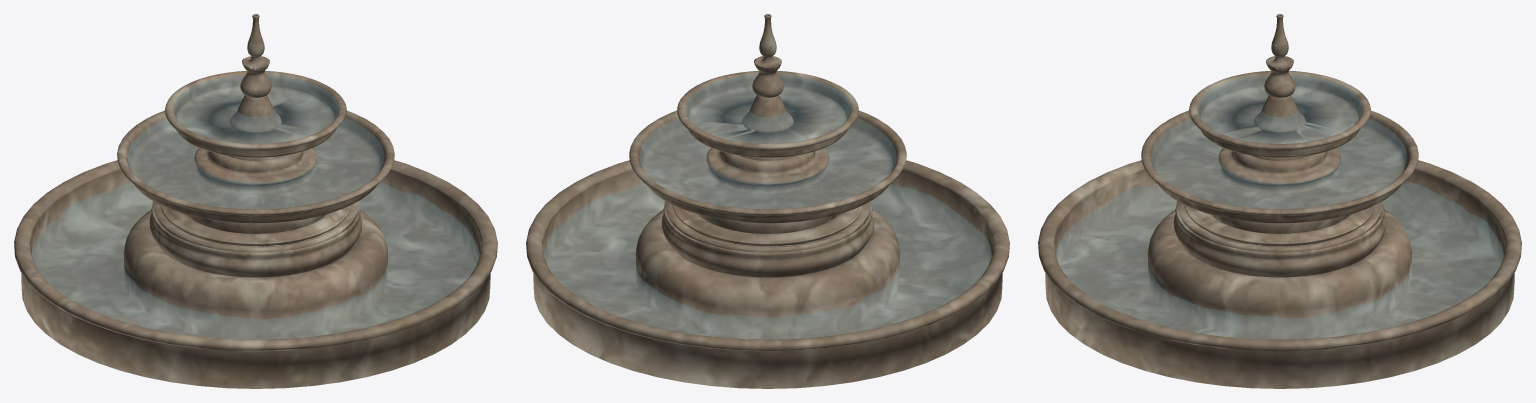
File: PRP_CityFountain.glb
3 views of the same model, side by side, from view 1: azimuth 30°, elevation 25°; view 2: azimuth 150°, elevation 25°; view 3: azimuth 270°, elevation 25° (orthographic).
Visible parts, largest first — view 1: h_1Shape, f_1Shape, f_3Shape, f_2Shape; view 2: h_1Shape, f_1Shape, f_3Shape, f_2Shape; view 3: h_1Shape, f_1Shape, f_3Shape, f_2Shape.
Part boxes in pixels (bbox=[...]): h_1Shape: bbox=[14, 14, 497, 388]; f_1Shape: bbox=[32, 182, 479, 339]; f_3Shape: bbox=[128, 118, 384, 208]; f_2Shape: bbox=[173, 75, 338, 143]; h_1Shape: bbox=[526, 14, 1009, 388]; f_1Shape: bbox=[544, 182, 991, 339]; f_3Shape: bbox=[640, 118, 896, 208]; f_2Shape: bbox=[685, 74, 850, 143]; h_1Shape: bbox=[1038, 14, 1521, 388]; f_1Shape: bbox=[1056, 181, 1503, 339]; f_3Shape: bbox=[1151, 118, 1406, 208]; f_2Shape: bbox=[1197, 74, 1362, 143].
Size of the model in its own units: 1087 by 685 by 1087.
2 materials, 2 textured.
